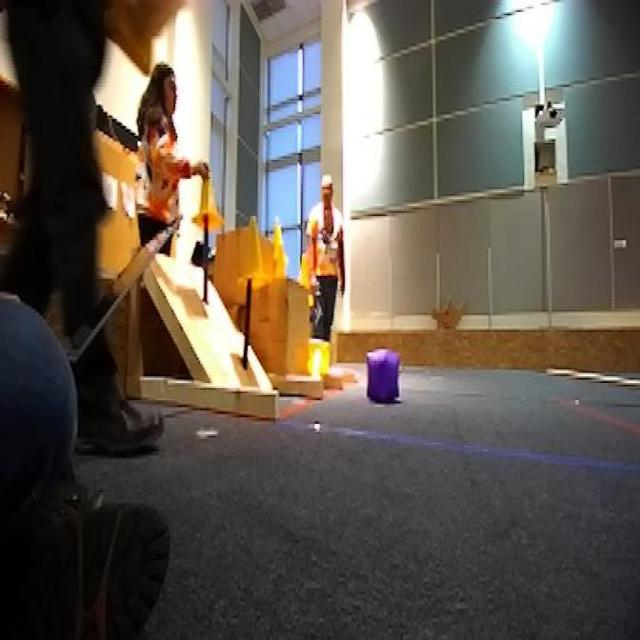frc_cone: (104, 0, 189, 75), (239, 216, 271, 295), (192, 165, 226, 237), (306, 339, 331, 383), (270, 218, 290, 269), (274, 242, 288, 279)
frc_cube: (366, 345, 402, 407)
